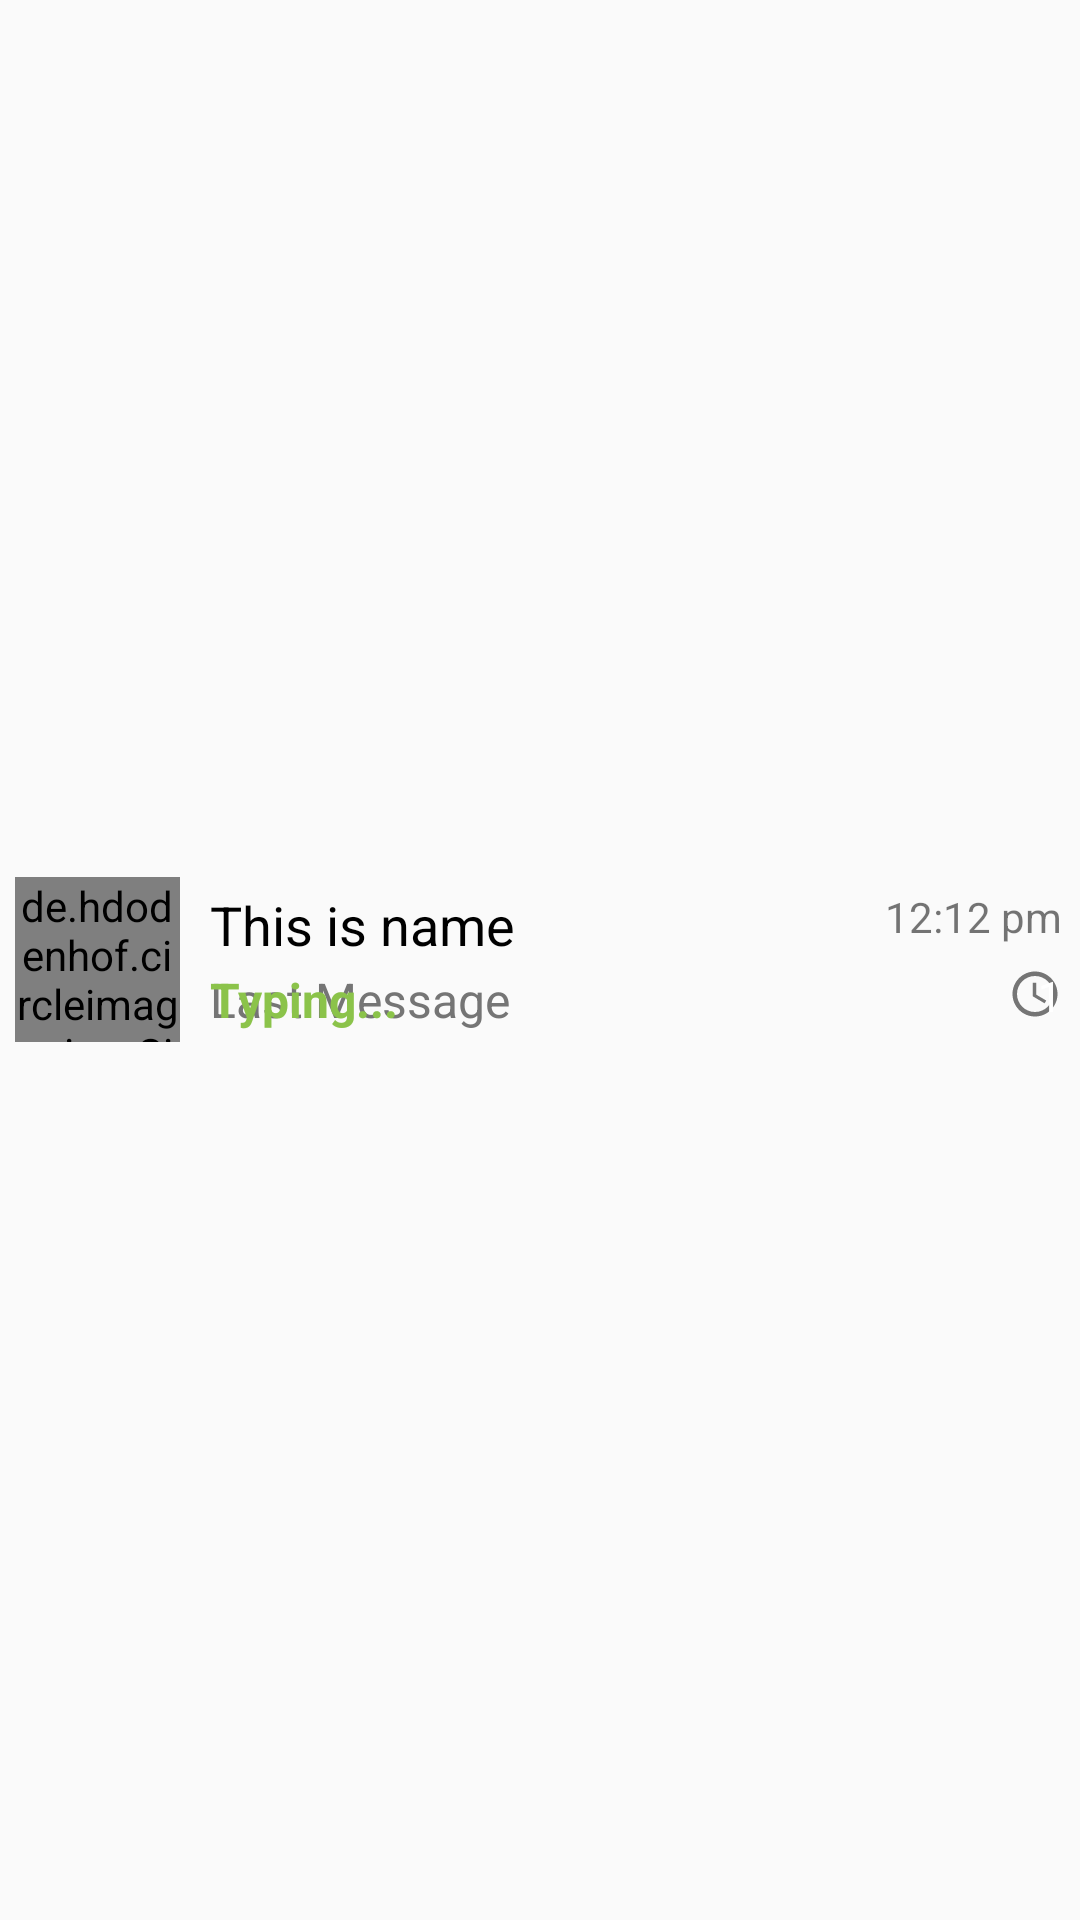

Screen size 1080px×1920px. Icon name, then its box in pixels as (x1=x1, y1=y1, x2=x2, y2=y2):
access time text secondary: (x1=1012, y1=971, x2=1058, y2=1017)
